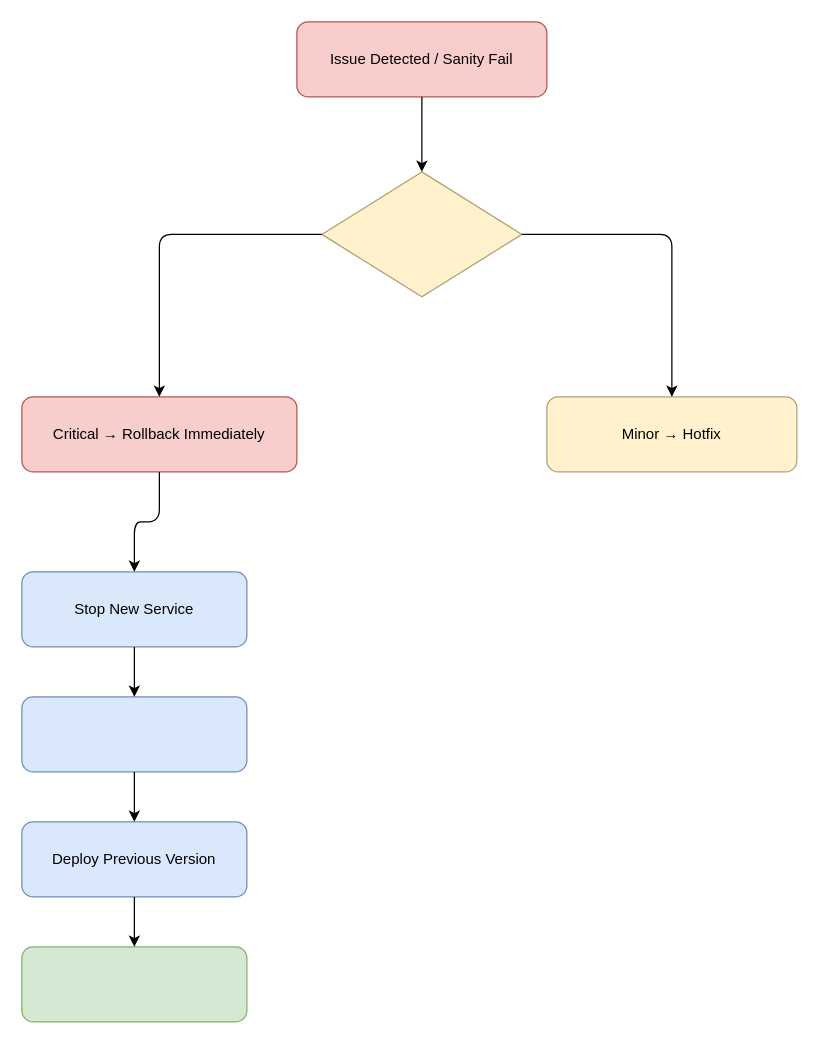
This 819x1044 diagram has some shape labels left out. Each missing label, with the centre of its shape:
Rollback DB / Config: point (134, 734)
Severity Assessment: point (421, 234)
Verify Rollback: point (134, 984)
